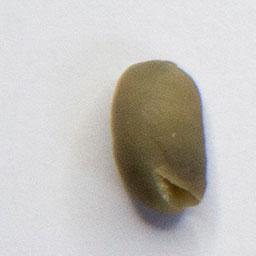peaberry: (108, 55, 212, 216)
